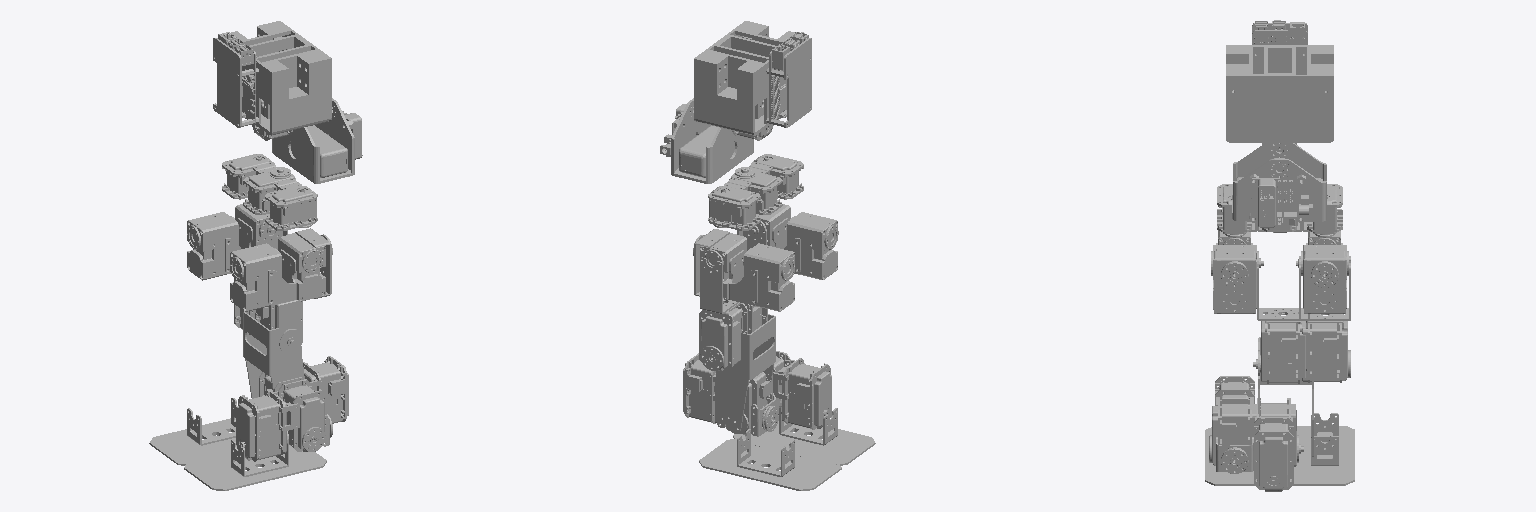
--- What the picture shows (computed from the rendered views, not written in the file) ---
The picture shows the robot from 3 angles, left to right: view 1: azimuth 30°, elevation 25°; view 2: azimuth 150°, elevation 25°; view 3: azimuth 270°, elevation 25°; orthographic projection.
Model rosaya_models with 15 links and 14 joints (14 revolute), rooted at Link1, posed all joints at 0.
Links seen in each view (by area): view 1: Link1, R_Link1, R_Link4, Link3, Link2, L_Link1, R_Link5, R_Link3, L_Link5, L_Link4, R_Link2; view 2: Link1, L_Link1, Link3, Link2, L_Link5, R_Link1, L_Link2, L_Link4, R_Link4, R_Link3, R_Link5, R_Link2; view 3: Link1, Link2, R_Link4, L_Link4, L_Link5, R_Link2, L_Link1, R_Link1, L_Link2, Link3, R_Link5.
Link boxes in pixels (<box>): Link1: <box>213,21,331,140</box>; R_Link1: <box>230,228,332,311</box>; R_Link4: <box>236,379,332,461</box>; Link3: <box>222,154,317,230</box>; Link2: <box>272,98,362,183</box>; L_Link1: <box>187,204,287,280</box>; R_Link5: <box>184,440,326,490</box>; R_Link3: <box>243,311,304,398</box>; L_Link5: <box>149,398,237,465</box>; L_Link4: <box>259,356,348,423</box>; R_Link2: <box>254,300,302,353</box>; Link1: <box>694,21,811,140</box>; L_Link1: <box>693,229,794,311</box>; Link3: <box>708,154,803,230</box>; Link2: <box>660,98,753,183</box>; L_Link5: <box>699,429,841,490</box>; R_Link1: <box>737,204,838,279</box>; L_Link2: <box>699,257,749,370</box>; L_Link4: <box>683,353,778,436</box>; R_Link4: <box>773,351,831,429</box>; R_Link3: <box>714,314,775,431</box>; R_Link5: <box>733,407,875,465</box>; R_Link2: <box>744,230,767,347</box>; Link1: <box>1226,20,1333,156</box>; Link2: <box>1232,143,1326,227</box>; R_Link4: <box>1209,376,1256,473</box>; L_Link4: <box>1254,398,1303,491</box>; L_Link5: <box>1290,413,1354,485</box>; R_Link2: <box>1253,267,1309,383</box>; L_Link1: <box>1296,231,1348,313</box>; R_Link1: <box>1211,230,1263,313</box>; L_Link2: <box>1299,256,1350,382</box>; Link3: <box>1217,184,1342,237</box>; R_Link5: <box>1205,427,1256,485</box>.
Size in the robot's own frame: 0.2099 by 0.1523 by 0.4824 metres.
12 mesh visuals loaded from 15 distinct referenced files (12 binary STL); not drawn: 3 (reference not matched to a file when rendering).

URDF robot description (rosaya_models):
<?xml version="1.0" encoding="utf-8" ?>
<!-- This URDF was automatically created by SolidWorks to URDF Exporter! Originally created by Stephen Brawner ([email redacted]) 
     Commit Version: 1.6.0-4-g7f85cfe  Build Version: 1.6.7995.38578
     For more information, please see http://wiki.ros.org/sw_urdf_exporter -->
<robot name="rosaya_models">
    <link name="Link1">
        <inertial>
            <origin xyz="-0.0140451869769053 -0.000102443179340425 0.424212396380785" rpy="0 0 0" />
            <mass value="0.264483114754865" />
            <inertia ixx="0.000377148965233947" ixy="2.5994599532165E-08" ixz="8.26900991274006E-06" iyy="0.000206025340153957" iyz="1.60054464463747E-07" izz="0.000337797285188758" />
        </inertial>
        <visual>
            <origin xyz="0 0 0" rpy="0 0 0" />
            <geometry>
                <mesh filename="package://rosaya_models/meshes/Link1.STL" />
            </geometry>
            <material name="">
                <color rgba="0.752941176470588 0.752941176470588 0.752941176470588 1" />
            </material>
        </visual>
        <collision>
            <origin xyz="0 0 0" rpy="0 0 0" />
            <geometry>
                <mesh filename="package://rosaya_models/meshes/Link1.STL" />
            </geometry>
        </collision>
    </link>
    <link name="Link2">
        <inertial>
            <origin xyz="0.0275163486490869 -0.000225038484028668 -0.0398526629439051" rpy="0 0 0" />
            <mass value="0.266759815938641" />
            <inertia ixx="0.000201939143646351" ixy="-2.02604473576346E-07" ixz="2.92452499794774E-07" iyy="6.97314124612398E-05" iyz="6.70715099069118E-07" izz="0.000208906968608255" />
        </inertial>
        <visual>
            <origin xyz="0 0 0" rpy="0 0 0" />
            <geometry>
                <mesh filename="package://rosaya_models/meshes/Link2.STL" />
            </geometry>
            <material name="">
                <color rgba="0.752941176470588 0.752941176470588 0.752941176470588 1" />
            </material>
        </visual>
        <collision>
            <origin xyz="0 0 0" rpy="0 0 0" />
            <geometry>
                <mesh filename="package://rosaya_models/meshes/Link2.STL" />
            </geometry>
        </collision>
    </link>
    <joint name="Joint1" type="revolute">
        <origin xyz="0.0150416145062784 -0.000145225937100715 0.375282029235617" rpy="0.00310746977134566 0 -3.14159265358979" />
        <parent link="Link1" />
        <child link="Link2" />
        <axis xyz="-1 0 0" />
        <limit effort="0" velocity="0" lower="-1" upper="1" />
        <safety_controller k_velocity="0" k_position="0" soft_lower_limit="-0.6" soft_upper_limit="0.6" />
    </joint>
    <link name="Link3">
        <inertial>
            <origin xyz="-0.0108043634184127 2.16609979877824E-06 -0.0246321946172634" rpy="0 0 0" />
            <mass value="0.141461102552141" />
            <inertia ixx="2.39627133598282E-05" ixy="2.90037379199943E-09" ixz="1.8274454421264E-07" iyy="3.84330097232021E-05" iyz="-3.81895596612324E-11" izz="3.16699542466875E-05" />
        </inertial>
        <visual>
            <origin xyz="0 0 0" rpy="0 0 0" />
            <geometry>
                <mesh filename="package://rosaya_models/meshes/Link3.STL" />
            </geometry>
            <material name="">
                <color rgba="0.752941176470588 0.752941176470588 0.752941176470588 1" />
            </material>
        </visual>
        <collision>
            <origin xyz="0 0 0" rpy="0 0 0" />
            <geometry>
                <mesh filename="package://rosaya_models/meshes/Link3.STL" />
            </geometry>
        </collision>
    </link>
    <joint name="Joint2" type="revolute">
        <origin xyz="0.0150417125919951 -0.00017124992576488 -0.0551096819554042" rpy="0.00310746977134566 0 3.14159265358979" />
        <parent link="Link2" />
        <child link="Link3" />
        <axis xyz="0 0 -1" />
        <limit effort="0" velocity="0" lower="-2" upper="2" />
        <safety_controller k_velocity="0" k_position="0" soft_lower_limit="-1.5" soft_upper_limit="1.5" />
    </joint>
    <link name="L_Link">
        <inertial>
            <origin xyz="2.50323684336529E-07 7.44298438559027E-08 -0.009497265940245" rpy="0 0 0" />
            <mass value="0.00620476919773645" />
            <inertia ixx="1.16709532356444E-06" ixy="2.24128152883016E-14" ixz="-1.31754042277062E-11" iyy="4.70615058588181E-06" iyz="-3.91750100003524E-12" izz="4.36737368608336E-06" />
        </inertial>
        <visual>
            <origin xyz="0 0 0" rpy="0 0 0" />
            <geometry>
                <mesh filename="package://rosaya_models/meshes/L_Link.STL" />
            </geometry>
            <material name="">
                <color rgba="0.752941176470588 0.752941176470588 0.752941176470588 1" />
            </material>
        </visual>
        <collision>
            <origin xyz="0 0 0" rpy="0 0 0" />
            <geometry>
                <mesh filename="package://rosaya_models/meshes/L_Link.STL" />
            </geometry>
        </collision>
    </link>
    <joint name="Joint3" type="revolute">
        <origin xyz="0 0.045659264836335 -0.0460755308216049" rpy="0 0 -0.000200463315012628" />
        <parent link="Link3" />
        <child link="L_Link" />
        <axis xyz="0 0 -1" />
        <limit effort="0" velocity="0" lower="-1" upper="1" />
        <safety_controller k_velocity="0" k_position="0" soft_lower_limit="-0.7" soft_upper_limit="0.7" />
    </joint>
    <link name="L_Link1">
        <inertial>
            <origin xyz="0.00657311272351697 -0.000309350747005263 -0.0151748569832827" rpy="0 0 0" />
            <mass value="0.18639489707273" />
            <inertia ixx="7.83297449900637E-05" ixy="3.05121819265623E-12" ixz="-1.95916960725846E-07" iyy="7.66987387899111E-05" iyz="1.61633318765208E-07" izz="4.72446830208299E-05" />
        </inertial>
        <visual>
            <origin xyz="0 0 0" rpy="0 0 0" />
            <geometry>
                <mesh filename="package://rosaya_models/meshes/L_Link1.STL" />
            </geometry>
            <material name="">
                <color rgba="0.752941176470588 0.752941176470588 0.752941176470588 1" />
            </material>
        </visual>
        <collision>
            <origin xyz="0 0 0" rpy="0 0 0" />
            <geometry>
                <mesh filename="package://rosaya_models/meshes/L_Link1.STL" />
            </geometry>
        </collision>
    </link>
    <joint name="Joint5" type="revolute">
        <origin xyz="-0.0317500000000014 0 -0.0339141545469447" rpy="0.000537539761406673 0 0" />
        <parent link="L_Link" />
        <child link="L_Link1" />
        <axis xyz="-1 0 0" />
        <limit effort="0" velocity="0" lower="-0.7" upper="0.7" />
        <safety_controller k_velocity="0" k_position="0" soft_lower_limit="-0.25" soft_upper_limit="0.25" />
    </joint>
    <link name="L_Link2">
        <inertial>
            <origin xyz="-0.000485947927418726 0.0245791199167028 -0.0913077482560078" rpy="0 0 0" />
            <mass value="0.0990788181499382" />
            <inertia ixx="4.93824228389883E-05" ixy="-2.94635540720296E-09" ixz="-1.12132818777156E-07" iyy="3.6564094548438E-05" iyz="-1.06282556014619E-06" izz="2.89120074625432E-05" />
        </inertial>
        <visual>
            <origin xyz="0 0 0" rpy="0 0 0" />
            <geometry>
                <mesh filename="package://rosaya_models/meshes/L_Link2.STL" />
            </geometry>
            <material name="">
                <color rgba="0.752941176470588 0.752941176470588 0.752941176470588 1" />
            </material>
        </visual>
        <collision>
            <origin xyz="0 0 0" rpy="0 0 0" />
            <geometry>
                <mesh filename="package://rosaya_models/meshes/L_Link2.STL" />
            </geometry>
        </collision>
    </link>
    <joint name="Joint7" type="revolute">
        <origin xyz="0.0317200000000001 -0.0244999999999996 0" rpy="0 0 0" />
        <parent link="L_Link1" />
        <child link="L_Link2" />
        <axis xyz="0 -1 0" />
        <limit effort="0" velocity="0" lower="-0.8" upper="2" />
        <safety_controller k_velocity="0" k_position="0" soft_lower_limit="-0.45" soft_upper_limit="1.5" />
    </joint>
    <link name="L_Link3">
        <inertial>
            <origin xyz="0.00932898247433369 0.0260353980000009 -0.0336820846788216" rpy="0 0 0" />
            <mass value="0.0193582268613659" />
            <inertia ixx="3.00375991900623E-05" ixy="1.78753730372709E-20" ixz="-4.16144772485329E-06" iyy="2.14370365193727E-05" iyz="1.96098359812431E-19" izz="1.54337749522801E-05" />
        </inertial>
        <visual>
            <origin xyz="0 0 0" rpy="0 0 0" />
            <geometry>
                <mesh filename="package://rosaya_models/meshes/L_Link3.STL" />
            </geometry>
            <material name="">
                <color rgba="0.752941176470588 0.752941176470588 0.752941176470588 1" />
            </material>
        </visual>
        <collision>
            <origin xyz="0 0 0" rpy="0 0 0" />
            <geometry>
                <mesh filename="package://rosaya_models/meshes/L_Link3.STL" />
            </geometry>
        </collision>
    </link>
    <joint name="Joint9" type="revolute">
        <origin xyz="-0.000558037765886032 -0.00140000000000197 -0.112828252884564" rpy="0 -0.000303003582677282 0" />
        <parent link="L_Link2" />
        <child link="L_Link3" />
        <axis xyz="0 -1 0" />
        <limit effort="0" velocity="0" lower="-2.5" upper="0.5" />
        <safety_controller k_velocity="0" k_position="0" soft_lower_limit="-2.2" soft_upper_limit="0.2" />
    </joint>
    <link name="L_Link4">
        <inertial>
            <origin xyz="0.0229326730067766 -0.0259869723493596 0.0153883242508742" rpy="0 0 0" />
            <mass value="0.182895656171114" />
            <inertia ixx="7.53620801606469E-05" ixy="9.74709752344958E-14" ixz="-1.07043004505627E-06" iyy="7.48745810421612E-05" iyz="1.06447109761369E-06" izz="4.69411945289824E-05" />
        </inertial>
        <visual>
            <origin xyz="0 0 0" rpy="0 0 0" />
            <geometry>
                <mesh filename="package://rosaya_models/meshes/L_Link4.STL" />
            </geometry>
            <material name="">
                <color rgba="0.752941176470588 0.752941176470588 0.752941176470588 1" />
            </material>
        </visual>
        <collision>
            <origin xyz="0 0 0" rpy="0 0 0" />
            <geometry>
                <mesh filename="package://rosaya_models/meshes/L_Link4.STL" />
            </geometry>
        </collision>
    </link>
    <joint name="Joint11" type="revolute">
        <origin xyz="0 0 -0.0949999999999996" rpy="0 -0.000302748335169453 3.14159265358979" />
        <parent link="L_Link3" />
        <child link="L_Link4" />
        <axis xyz="0 -1 0" />
        <limit effort="0" velocity="0" lower="-2." upper="1" />
        <safety_controller k_velocity="0" k_position="0" soft_lower_limit="-1.62" soft_upper_limit="0.7" />
    </joint>
    <link name="L_Link5">
        <inertial>
            <origin xyz="-0.0279100000022213 -0.00784814161879391 -0.0292680262318618" rpy="0 0 0" />
            <mass value="0.0728910331350744" />
            <inertia ixx="3.33197131957481E-05" ixy="-2.71246541755995E-14" ixz="-8.07357015135364E-16" iyy="0.000102630001589937" iyz="-1.64946572156077E-12" izz="0.000132875198487612" />
        </inertial>
        <visual>
            <origin xyz="0 0 0" rpy="0 0 0" />
            <geometry>
                <mesh filename="package://rosaya_models/meshes/L_Link5.STL" />
            </geometry>
            <material name="">
                <color rgba="0.752941176470588 0.752941176470588 0.752941176470588 1" />
            </material>
        </visual>
        <collision>
            <origin xyz="0 0 0" rpy="0 0 0" />
            <geometry>
                <mesh filename="package://rosaya_models/meshes/L_Link5.STL" />
            </geometry>
        </collision>
    </link>
    <joint name="Joint13" type="revolute">
        <origin xyz="0.0235999999999932 -0.0259999999999994 0" rpy="0 0 0" />
        <parent link="L_Link4" />
        <child link="L_Link5" />
        <axis xyz="-1 0 0" />
        <limit effort="0" velocity="0" lower="-2" upper="2" />
        <safety_controller k_velocity="0" k_position="0" soft_lower_limit="-1.58" soft_upper_limit="1.58" />
    </joint>
    <link name="R_Link">
        <inertial>
            <origin xyz="2.50323684322651E-07 7.44298438298818E-08 -0.009497265940245" rpy="0 0 0" />
            <mass value="0.00620476919773645" />
            <inertia ixx="1.16709532356444E-06" ixy="2.24128168484417E-14" ixz="-1.31754042254942E-11" iyy="4.70615058588182E-06" iyz="-3.91750099867982E-12" izz="4.36737368608336E-06" />
        </inertial>
        <visual>
            <origin xyz="0 0 0" rpy="0 0 0" />
            <geometry>
                <mesh filename="package://rosaya_models/meshes/R_Link.STL" />
            </geometry>
            <material name="">
                <color rgba="0.752941176470588 0.752941176470588 0.752941176470588 1" />
            </material>
        </visual>
        <collision>
            <origin xyz="0 0 0" rpy="0 0 0" />
            <geometry>
                <mesh filename="package://rosaya_models/meshes/R_Link.STL" />
            </geometry>
        </collision>
    </link>
    <joint name="Joint4" type="revolute">
        <origin xyz="0 -0.0456592648363355 -0.0460755308216101" rpy="0 0 -0.000200463315012628" />
        <parent link="Link3" />
        <child link="R_Link" />
        <axis xyz="0 0 -1" />
        <limit effort="0" velocity="0" lower="-1" upper="1" />
        <safety_controller k_velocity="0" k_position="0" soft_lower_limit="-0.7" soft_upper_limit="0.7" />
    </joint>
    <link name="R_Link1">
        <inertial>
            <origin xyz="0.00657493812540676 0.000309357807021043 -0.0151748569832826" rpy="0 0 0" />
            <mass value="0.18639489707273" />
            <inertia ixx="7.83297449900636E-05" ixy="3.05121820196201E-12" ixz="-1.95917088531604E-07" iyy="7.6698738789911E-05" iyz="-1.62133778034599E-07" izz="4.72446830208299E-05" />
        </inertial>
        <visual>
            <origin xyz="0 0 0" rpy="0 0 0" />
            <geometry>
                <mesh filename="package://rosaya_models/meshes/R_Link1.STL" />
            </geometry>
            <material name="">
                <color rgba="0.752941176470588 0.752941176470588 0.752941176470588 1" />
            </material>
        </visual>
        <collision>
            <origin xyz="0 0 0" rpy="0 0 0" />
            <geometry>
                <mesh filename="package://rosaya_models/meshes/R_Link1.STL" />
            </geometry>
        </collision>
    </link>
    <joint name="Joint6" type="revolute">
        <origin xyz="-0.0317499999999999 0 -0.0339141545469453" rpy="0.000537539765574113 0 0" />
        <parent link="R_Link" />
        <child link="R_Link1" />
        <axis xyz="-1 0 0" />
        <limit effort="0" velocity="0" lower="-0.7" upper="0.7" />
        <safety_controller k_velocity="0" k_position="0" soft_lower_limit="-0.25" soft_upper_limit="0.25" />
    </joint>
    <link name="R_Link2">
        <inertial>
            <origin xyz="2.80111859402715E-05 0.0245791212735314 -0.0912599475740594" rpy="0 0 0" />
            <mass value="0.0990788181535519" />
            <inertia ixx="4.93830312794501E-05" ixy="2.31024992829368E-09" ixz="7.60281236107224E-09" iyy="3.65640945538293E-05" iyz="-1.06282733006272E-06" izz="2.89113990286086E-05" />
        </inertial>
        <visual>
            <origin xyz="0 0 0" rpy="0 0 0" />
            <geometry>
                <mesh filename="package://rosaya_models/meshes/R_Link2.STL" />
            </geometry>
            <material name="">
                <color rgba="0.752941176470588 0.752941176470588 0.752941176470588 1" />
            </material>
        </visual>
        <collision>
            <origin xyz="0 0 0" rpy="0 0 0" />
            <geometry>
                <mesh filename="package://rosaya_models/meshes/R_Link2.STL" />
            </geometry>
        </collision>
    </link>
    <joint name="Joint8" type="revolute">
        <origin xyz="0.031720000000165 0.0245000000000003 -4.90873395437297E-05" rpy="0 0 -3.14159265358979" />
        <parent link="R_Link1" />
        <child link="R_Link2" />
        <axis xyz="0 -1 0" />
        <limit effort="0" velocity="0" lower="-2" upper="0.8" />
        <safety_controller k_velocity="0" k_position="0" soft_lower_limit="-1.5" soft_upper_limit="0.45" />
    </joint>
    <link name="R_Link3">
        <inertial>
            <origin xyz="-0.00932898252848983 0.0260353980000001 -0.0336820846638228" rpy="0 0 0" />
            <mass value="0.0193582268613659" />
            <inertia ixx="3.00375992034434E-05" ixy="-2.69594705243283E-20" ixz="4.16144770137387E-06" iyy="2.14370365193727E-05" iyz="-1.88595165744634E-19" izz="1.54337749388988E-05" />
        </inertial>
        <visual>
            <origin xyz="0 0 0" rpy="0 0 0" />
            <geometry>
                <mesh filename="package://rosaya_models/meshes/R_Link3.STL" />
            </geometry>
            <material name="">
                <color rgba="0.752941176470588 0.752941176470588 0.752941176470588 1" />
            </material>
        </visual>
        <collision>
            <origin xyz="0 0 0" rpy="0 0 0" />
            <geometry>
                <mesh filename="package://rosaya_models/meshes/R_Link3.STL" />
            </geometry>
        </collision>
    </link>
    <joint name="Joint10" type="revolute">
        <origin xyz="0 -0.0014000000000008 -0.11278054553733" rpy="0 0 0" />
        <parent link="R_Link2" />
        <child link="R_Link3" />
        <axis xyz="0 -1 0" />
        <limit effort="0" velocity="0" lower="-0.5" upper="2.5" />
        <safety_controller k_velocity="0" k_position="0" soft_lower_limit="-0.2" soft_upper_limit="2.2" />
    </joint>
    <link name="R_Link4">
        <inertial>
            <origin xyz="-0.0229292401554875 -0.0259904059352682 0.0153884170261417" rpy="0 0 0" />
            <mass value="0.182895656171117" />
            <inertia ixx="7.53620801606485E-05" ixy="9.74709990804585E-14" ixz="1.07371232224204E-06" iyy="7.48745810421634E-05" iyz="1.06118336765581E-06" izz="4.69411945289827E-05" />
        </inertial>
        <visual>
            <origin xyz="0 0 0" rpy="0 0 0" />
            <geometry>
                <mesh filename="package://rosaya_models/meshes/R_Link4.STL" />
            </geometry>
            <material name="">
                <color rgba="0.752941176470588 0.752941176470588 0.752941176470588 1" />
            </material>
        </visual>
        <collision>
            <origin xyz="0 0 0" rpy="0 0 0" />
            <geometry>
                <mesh filename="package://rosaya_models/meshes/R_Link4.STL" />
            </geometry>
        </collision>
    </link>
    <joint name="Joint12" type="revolute">
        <origin xyz="0 0 -0.0949999999999999" rpy="0 0 3.14159265358979" />
        <parent link="R_Link3" />
        <child link="R_Link4" />
        <axis xyz="0 -1 0" />
        <limit effort="0" velocity="0" lower="-1" upper="2" />
        <safety_controller k_velocity="0" k_position="0" soft_lower_limit="-0.7" soft_upper_limit="1.62" />
    </joint>
    <link name="R_Link5">
        <inertial>
            <origin xyz="-0.0279100000022238 0.00784810174265635 -0.0292680262318556" rpy="0 0 0" />
            <mass value="0.0728910331350756" />
            <inertia ixx="3.3319713195748E-05" ixy="-2.71244792029117E-14" ixz="-8.07324395262557E-16" iyy="0.000102630001589938" iyz="-1.64946573526789E-12" izz="0.000132875198487613" />
        </inertial>
        <visual>
            <origin xyz="0 0 0" rpy="0 0 0" />
            <geometry>
                <mesh filename="package://rosaya_models/meshes/R_Link5.STL" />
            </geometry>
            <material name="">
                <color rgba="0.752941176470588 0.752941176470588 0.752941176470588 1" />
            </material>
        </visual>
        <collision>
            <origin xyz="0 0 0" rpy="0 0 0" />
            <geometry>
                <mesh filename="package://rosaya_models/meshes/R_Link5.STL" />
            </geometry>
        </collision>
    </link>
    <joint name="Joint14" type="revolute">
        <origin xyz="-0.0235999999999946 -0.0260000000000017 0" rpy="0 0 3.14159265358979" />
        <parent link="R_Link4" />
        <child link="R_Link5" />
        <axis xyz="-1 0 0" />
        <limit effort="0" velocity="0" lower="-2" upper="2" />
        <safety_controller k_velocity="0" k_position="0" soft_lower_limit="-1.58" soft_upper_limit="1.58" />
    </joint>
    <transmission name="trans_Joint1">
        <type>transmission_interface/SimpleTransmission</type>
        <joint name="Joint1">
            <hardwareInterface>hardware_interface/EffortJointInterface</hardwareInterface>
        </joint>
        <actuator name="Joint1_motor">
            <hardwareInterface>hardware_interface/EffortJointInterface</hardwareInterface>
            <mechanicalReduction>1</mechanicalReduction>
        </actuator>
    </transmission>
    <transmission name="trans_Joint2">
        <type>transmission_interface/SimpleTransmission</type>
        <joint name="Joint2">
            <hardwareInterface>hardware_interface/EffortJointInterface</hardwareInterface>
        </joint>
        <actuator name="Joint2_motor">
            <hardwareInterface>hardware_interface/EffortJointInterface</hardwareInterface>
            <mechanicalReduction>1</mechanicalReduction>
        </actuator>
    </transmission>
    <transmission name="trans_Joint3">
        <type>transmission_interface/SimpleTransmission</type>
        <joint name="Joint3">
            <hardwareInterface>hardware_interface/EffortJointInterface</hardwareInterface>
        </joint>
        <actuator name="Joint3_motor">
            <hardwareInterface>hardware_interface/EffortJointInterface</hardwareInterface>
            <mechanicalReduction>1</mechanicalReduction>
        </actuator>
    </transmission>
    <transmission name="trans_Joint5">
        <type>transmission_interface/SimpleTransmission</type>
        <joint name="Joint5">
            <hardwareInterface>hardware_interface/EffortJointInterface</hardwareInterface>
        </joint>
        <actuator name="Joint5_motor">
            <hardwareInterface>hardware_interface/EffortJointInterface</hardwareInterface>
            <mechanicalReduction>1</mechanicalReduction>
        </actuator>
    </transmission>
    <transmission name="trans_Joint7">
        <type>transmission_interface/SimpleTransmission</type>
        <joint name="Joint7">
            <hardwareInterface>hardware_interface/EffortJointInterface</hardwareInterface>
        </joint>
        <actuator name="Joint7_motor">
            <hardwareInterface>hardware_interface/EffortJointInterface</hardwareInterface>
            <mechanicalReduction>1</mechanicalReduction>
        </actuator>
    </transmission>
    <transmission name="trans_Joint9">
        <type>transmission_interface/SimpleTransmission</type>
        <joint name="Joint9">
            <hardwareInterface>hardware_interface/EffortJointInterface</hardwareInterface>
        </joint>
        <actuator name="Joint9_motor">
            <hardwareInterface>hardware_interface/EffortJointInterface</hardwareInterface>
            <mechanicalReduction>1</mechanicalReduction>
        </actuator>
    </transmission>
    <transmission name="trans_Joint11">
        <type>transmission_interface/SimpleTransmission</type>
        <joint name="Joint11">
            <hardwareInterface>hardware_interface/EffortJointInterface</hardwareInterface>
        </joint>
        <actuator name="Joint11_motor">
            <hardwareInterface>hardware_interface/EffortJointInterface</hardwareInterface>
            <mechanicalReduction>1</mechanicalReduction>
        </actuator>
    </transmission>
    <transmission name="trans_Joint13">
        <type>transmission_interface/SimpleTransmission</type>
        <joint name="Joint13">
            <hardwareInterface>hardware_interface/EffortJointInterface</hardwareInterface>
        </joint>
        <actuator name="Joint13_motor">
            <hardwareInterface>hardware_interface/EffortJointInterface</hardwareInterface>
            <mechanicalReduction>1</mechanicalReduction>
        </actuator>
    </transmission>
    <transmission name="trans_Joint4">
        <type>transmission_interface/SimpleTransmission</type>
        <joint name="Joint4">
            <hardwareInterface>hardware_interface/EffortJointInterface</hardwareInterface>
        </joint>
        <actuator name="Joint4_motor">
            <hardwareInterface>hardware_interface/EffortJointInterface</hardwareInterface>
            <mechanicalReduction>1</mechanicalReduction>
        </actuator>
    </transmission>
    <transmission name="trans_Joint6">
        <type>transmission_interface/SimpleTransmission</type>
        <joint name="Joint6">
            <hardwareInterface>hardware_interface/EffortJointInterface</hardwareInterface>
        </joint>
        <actuator name="Joint6_motor">
            <hardwareInterface>hardware_interface/EffortJointInterface</hardwareInterface>
            <mechanicalReduction>1</mechanicalReduction>
        </actuator>
    </transmission>
    <transmission name="trans_Joint8">
        <type>transmission_interface/SimpleTransmission</type>
        <joint name="Joint8">
            <hardwareInterface>hardware_interface/EffortJointInterface</hardwareInterface>
        </joint>
        <actuator name="Joint8_motor">
            <hardwareInterface>hardware_interface/EffortJointInterface</hardwareInterface>
            <mechanicalReduction>1</mechanicalReduction>
        </actuator>
    </transmission>
    <transmission name="trans_Joint10">
        <type>transmission_interface/SimpleTransmission</type>
        <joint name="Joint10">
            <hardwareInterface>hardware_interface/EffortJointInterface</hardwareInterface>
        </joint>
        <actuator name="Joint10_motor">
            <hardwareInterface>hardware_interface/EffortJointInterface</hardwareInterface>
            <mechanicalReduction>1</mechanicalReduction>
        </actuator>
    </transmission>
    <transmission name="trans_Joint12">
        <type>transmission_interface/SimpleTransmission</type>
        <joint name="Joint12">
            <hardwareInterface>hardware_interface/EffortJointInterface</hardwareInterface>
        </joint>
        <actuator name="Joint12_motor">
            <hardwareInterface>hardware_interface/EffortJointInterface</hardwareInterface>
            <mechanicalReduction>1</mechanicalReduction>
        </actuator>
    </transmission>
    <transmission name="trans_Joint14">
        <type>transmission_interface/SimpleTransmission</type>
        <joint name="Joint14">
            <hardwareInterface>hardware_interface/EffortJointInterface</hardwareInterface>
        </joint>
        <actuator name="Joint14_motor">
            <hardwareInterface>hardware_interface/EffortJointInterface</hardwareInterface>
            <mechanicalReduction>1</mechanicalReduction>
        </actuator>
    </transmission>
    <gazebo>
        <plugin name="gazebo_ros_control">
            <robotNamespace>/</robotNamespace>
        </plugin>
    </gazebo>
</robot>
